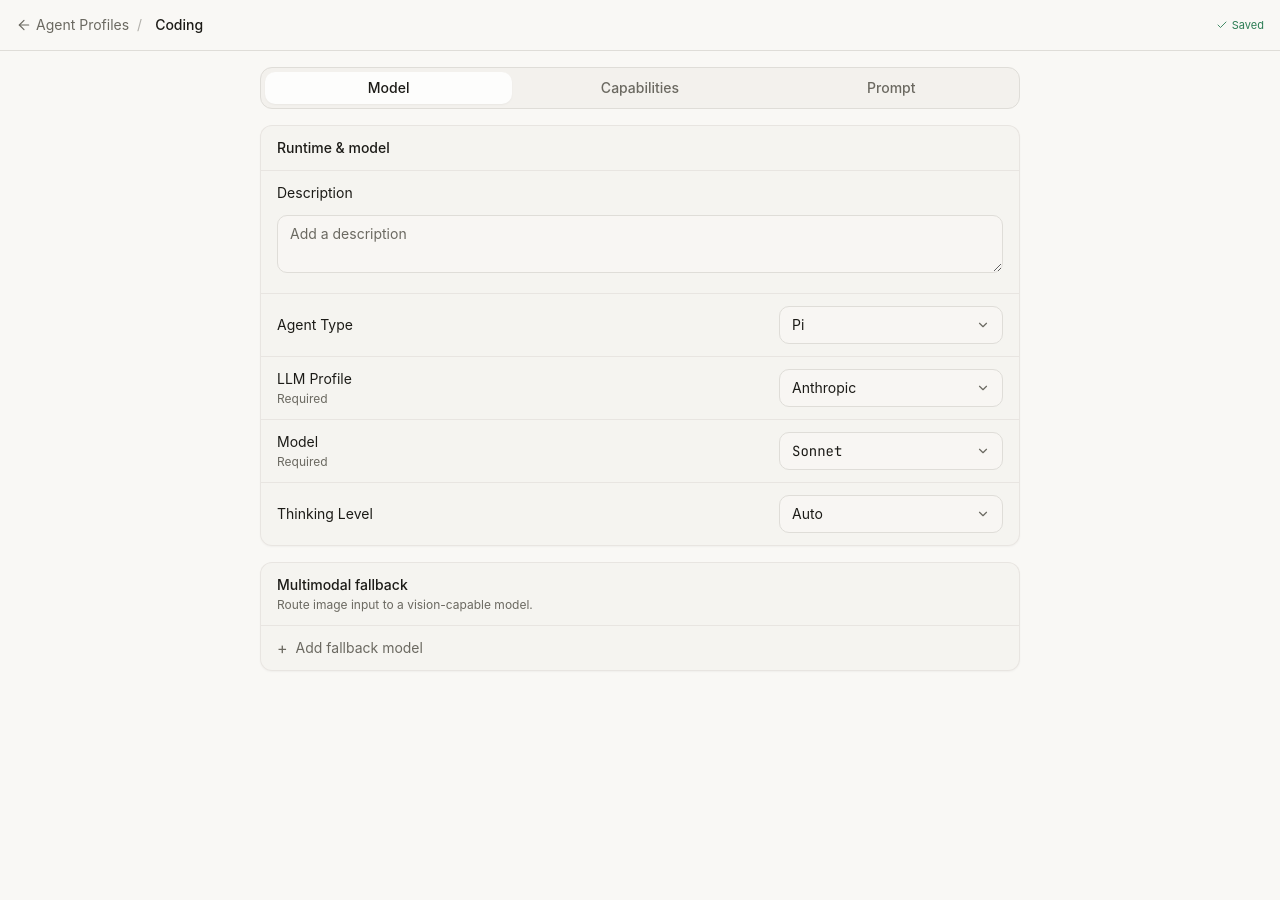
Scenario: ProfileEditor › Capabilities sub-tabs switch between Tools, Providers, and Skills
Check: the field with placeholder "e.g., Default Coding Agent" is shown, box [150,12,208,38]
Step 1. Click the tab "Capabilities" → (640, 88), box [516,72,764,104]
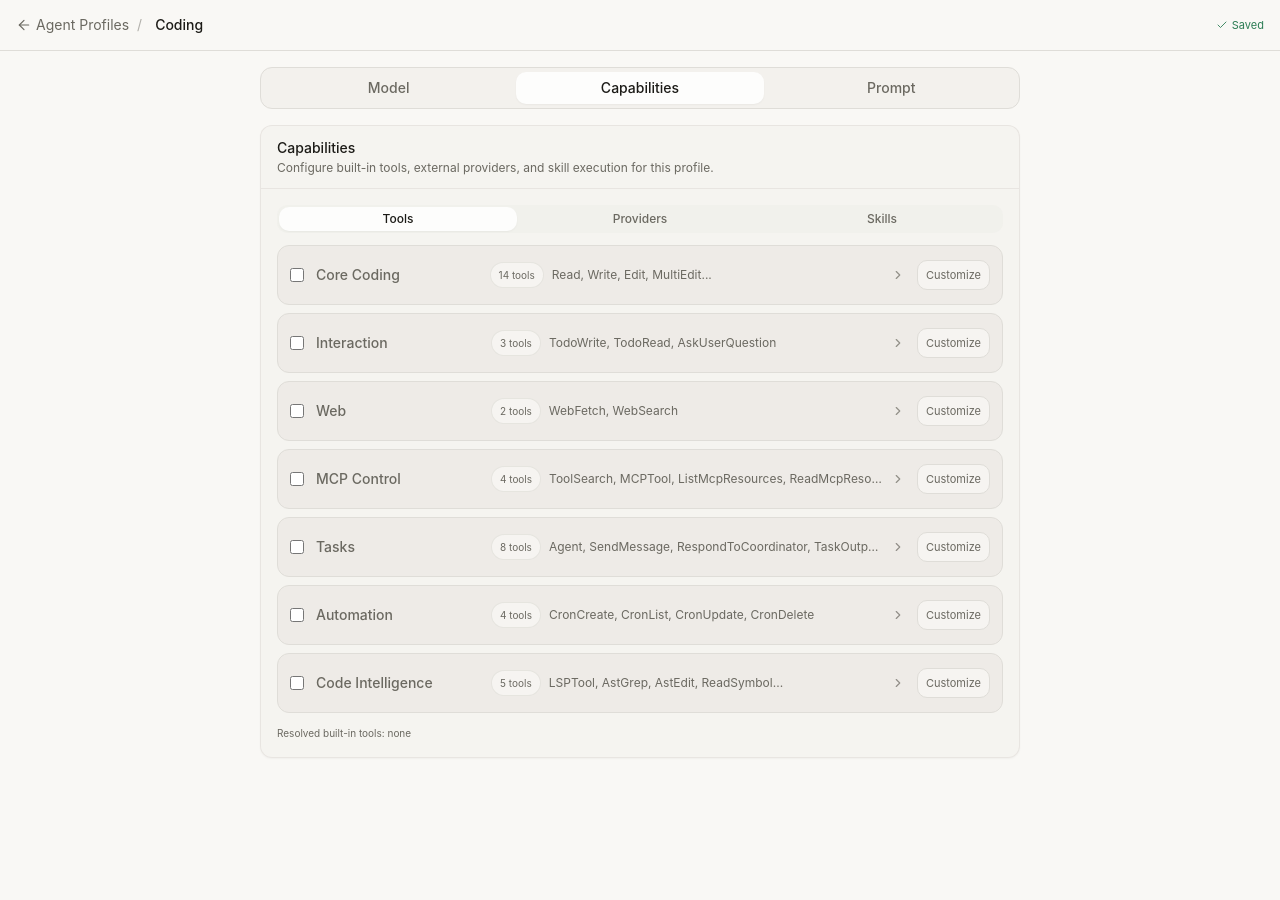
Check: the text "Configured MCP servers" is not shown
Check: the checkbox named "enable full tool set" is shown, box [290,268,304,282]
Switch to Providers.
Step 2. Click the tab "Providers" → (640, 219), box [521,207,759,231]
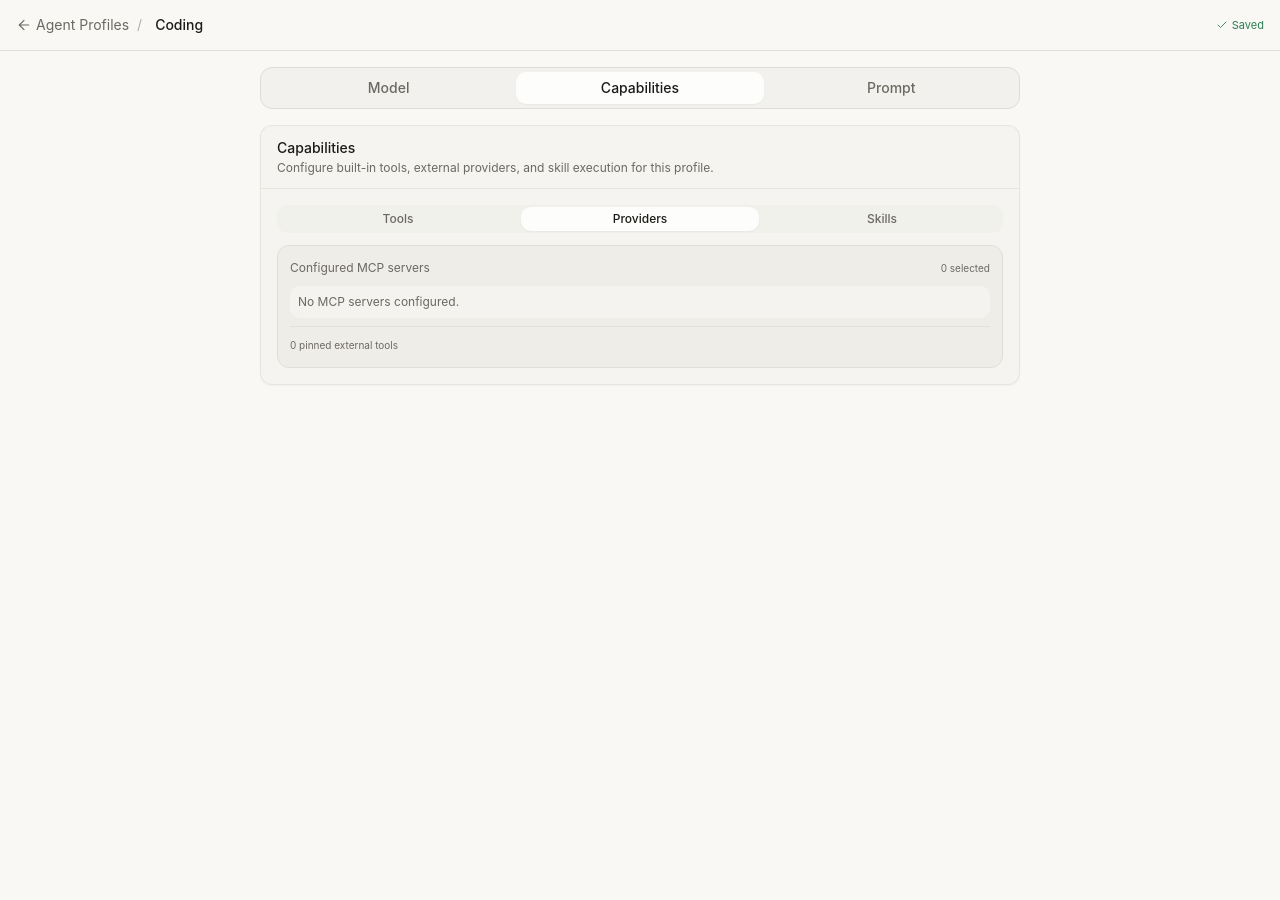
Check: the text "Configured MCP servers" is shown, box [290,260,430,276]
Switch to Skills.
Step 3. Click the tab "Skills" → (882, 219), box [763,207,1001,231]
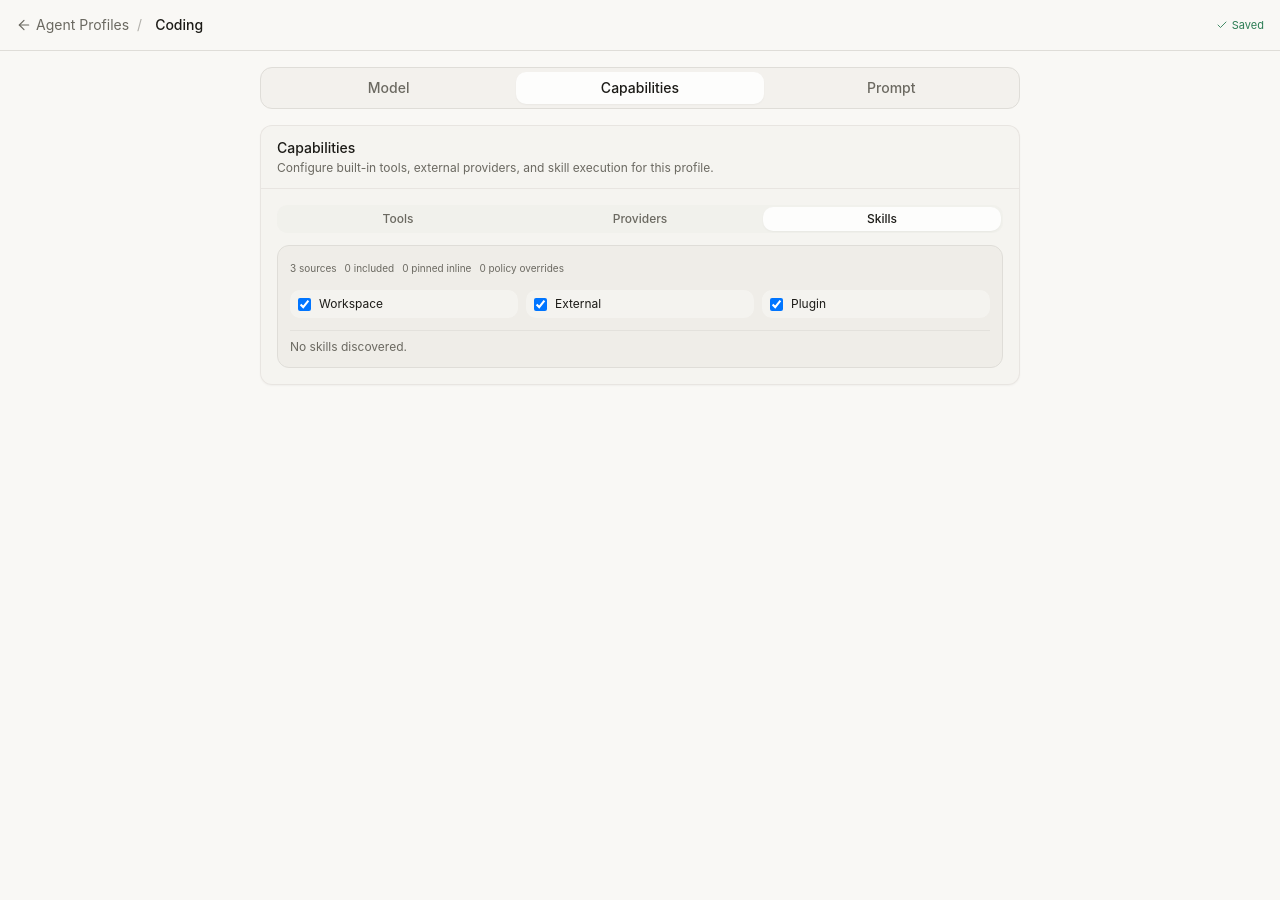
Check: the checkbox named "enable workspace skills" is shown, box [298,298,311,310]
Check: the text "Configured MCP servers" is gone
